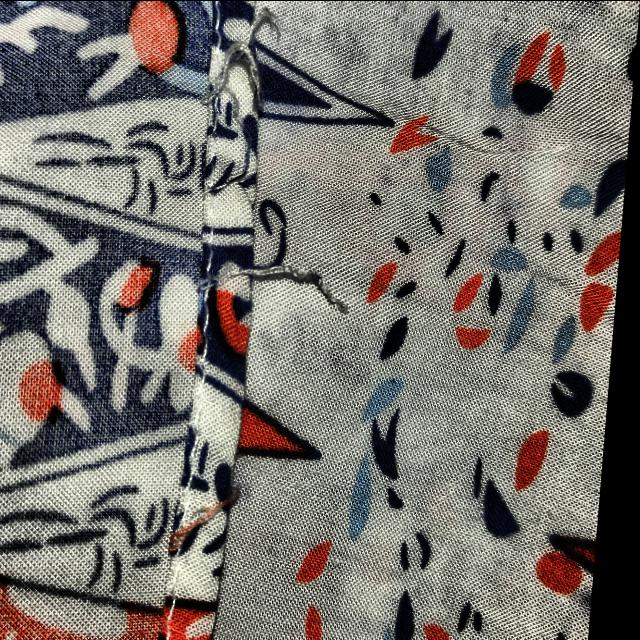Stitch: (153, 207, 423, 366), (162, 2, 366, 136), (117, 455, 286, 594)
